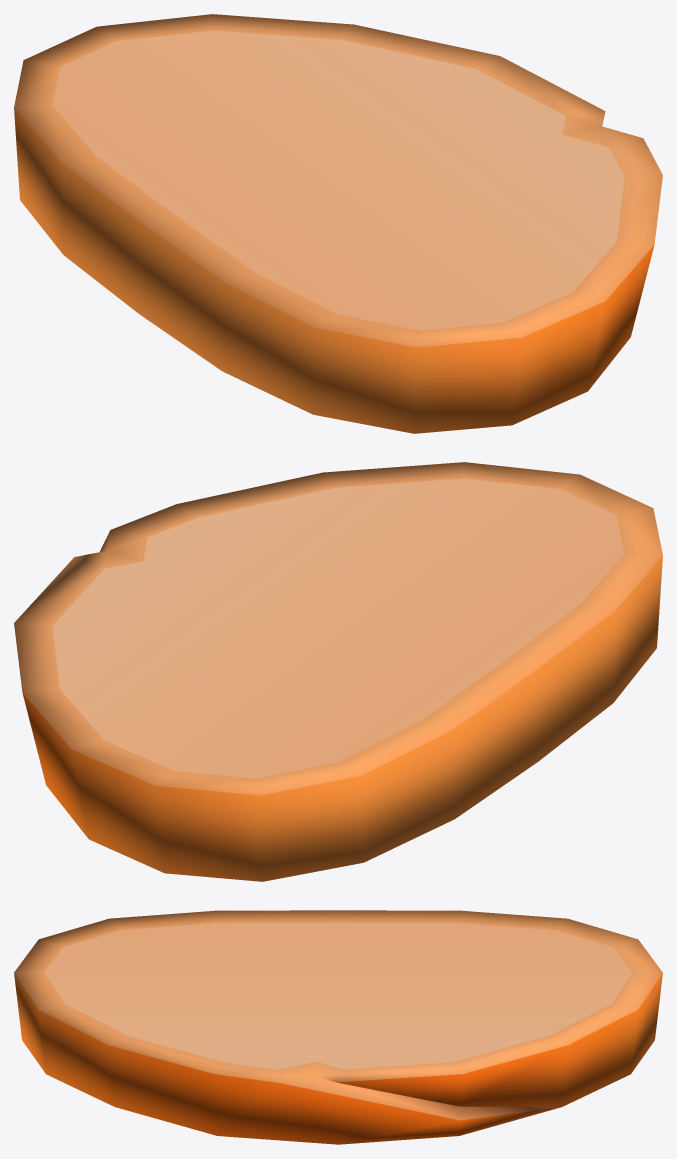
The model's file is SM_Bread_4.3.fbx.
3 views of the same model, one above another, from view 1: azimuth 30°, elevation 25°; view 2: azimuth 150°, elevation 25°; view 3: azimuth 270°, elevation 25° (orthographic). The views are drawn at different scales.
Parts seen in each view (by area): view 1: SM_Bread_4.3; view 2: SM_Bread_4.3; view 3: SM_Bread_4.3.
Part boxes in pixels (left/top/right/bottom): SM_Bread_4.3: left=14, top=14, right=662, bottom=433; SM_Bread_4.3: left=14, top=462, right=662, bottom=881; SM_Bread_4.3: left=14, top=910, right=662, bottom=1144.
Size of the model in its own units: 12.86 by 2.39 by 20.33.
Materials: 1 (1 with a texture image).
